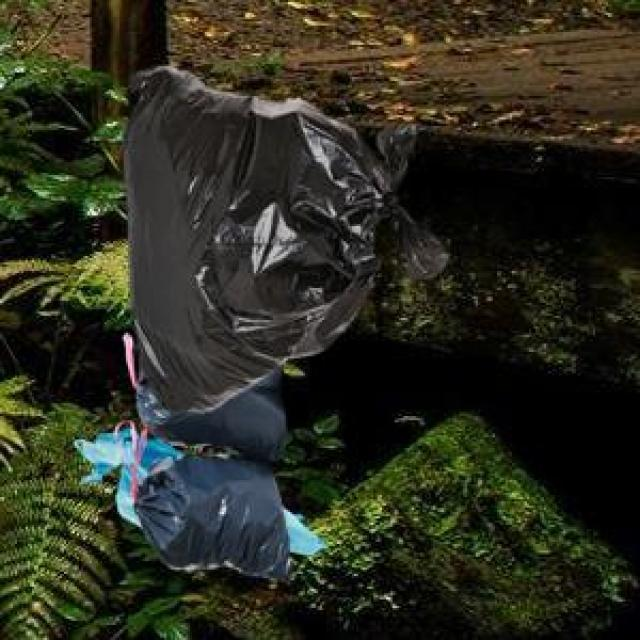miscellaneous trash: (117, 62, 444, 408), (120, 329, 285, 578)
